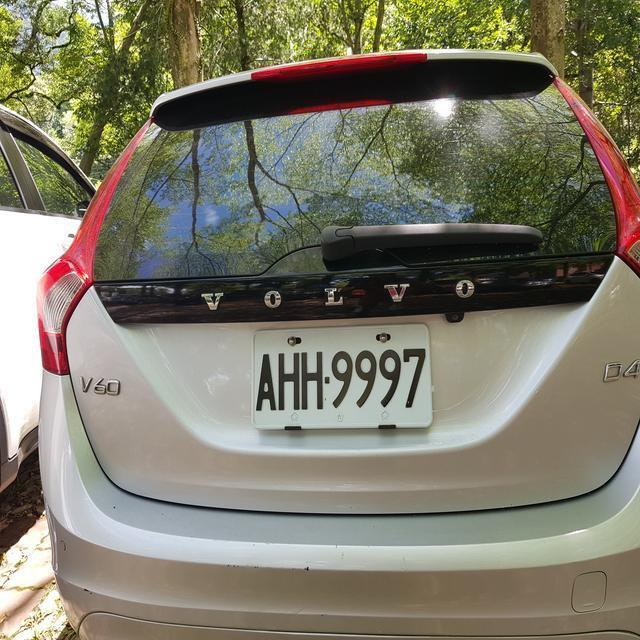plate: (250, 341, 427, 420)
